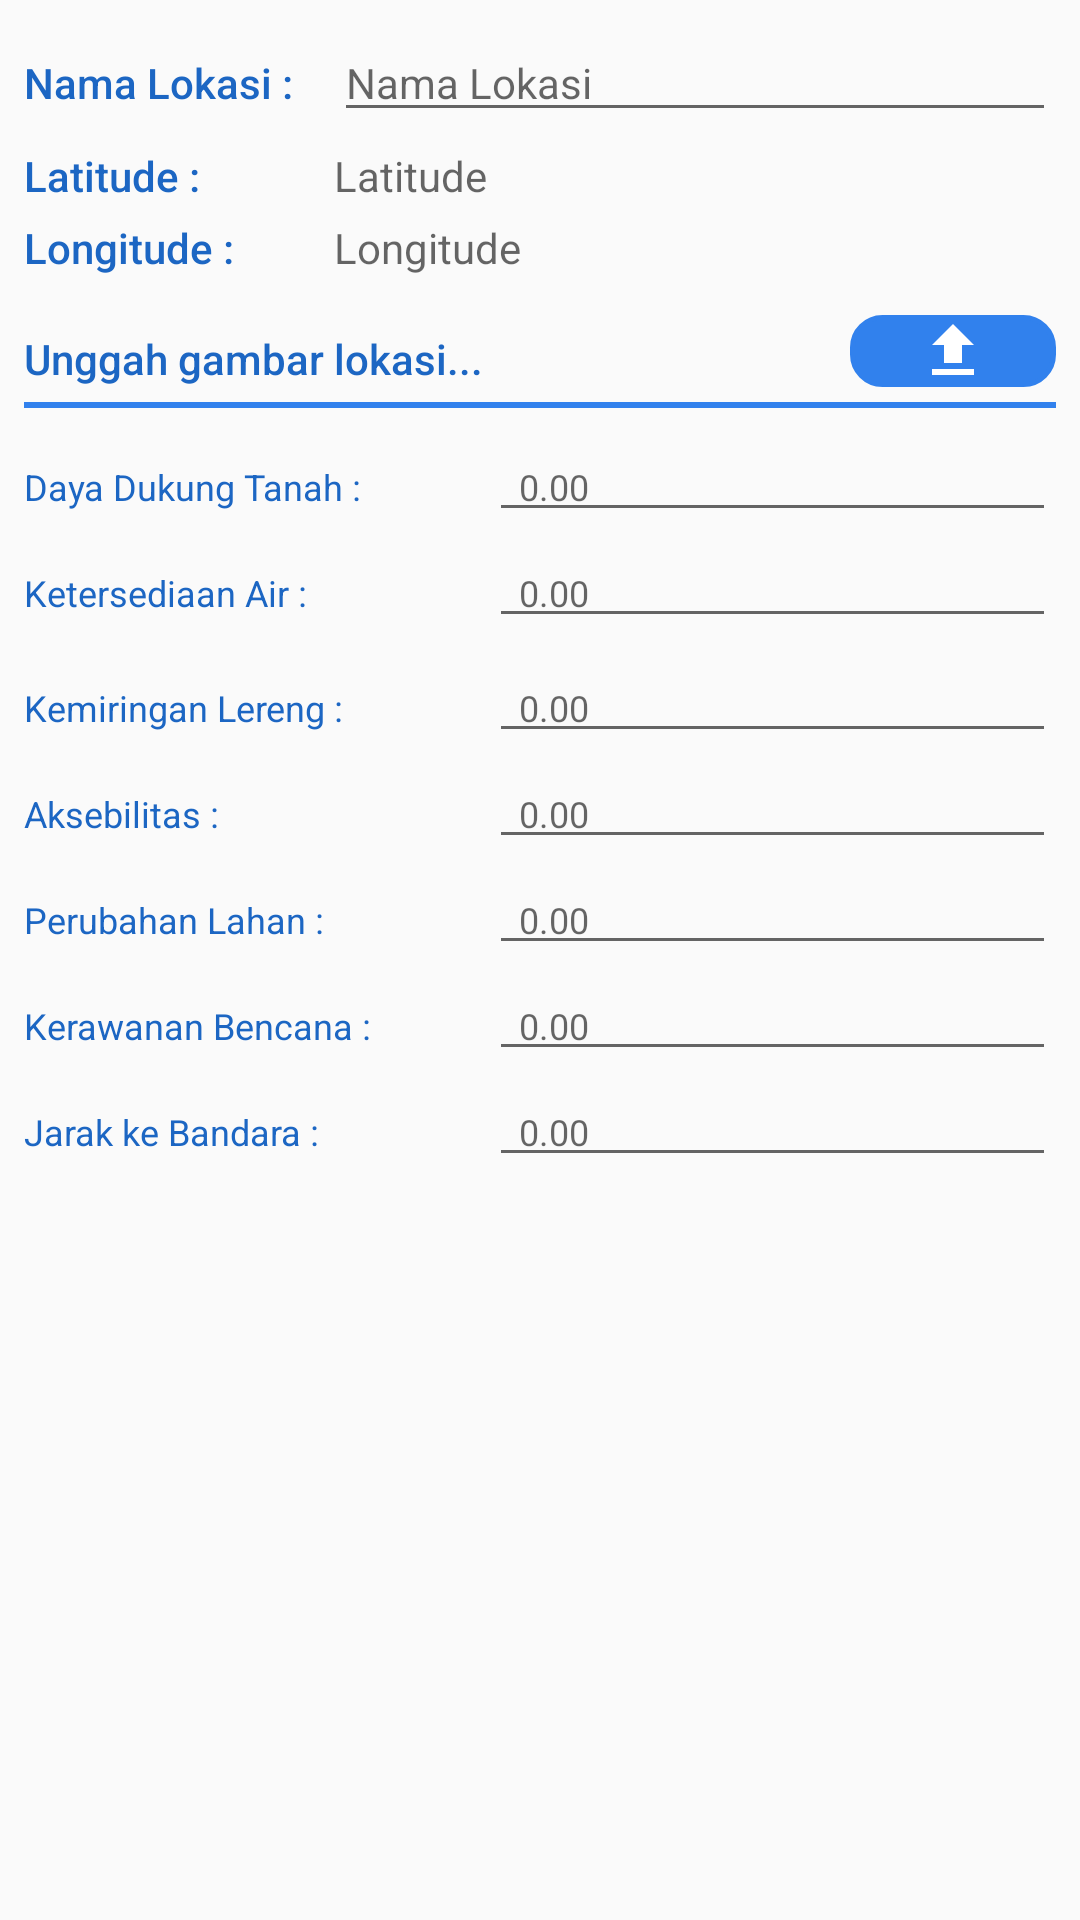

Where icons sit on this 1080 × 1920 app screen, as (x1, y1, x2, y2):
file upload: (932, 324, 974, 375)
